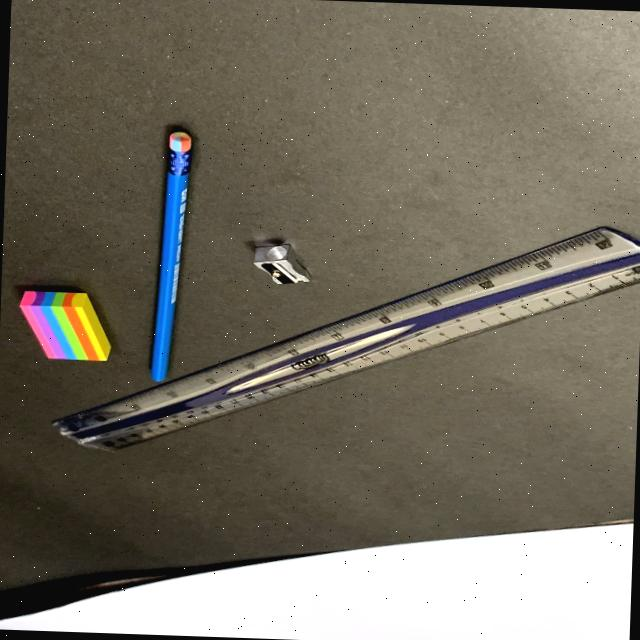Eraser: (2, 260, 130, 376)
Pencil: (130, 105, 223, 380)
Scale: (15, 198, 640, 474)
Sharpner: (232, 220, 320, 302)
